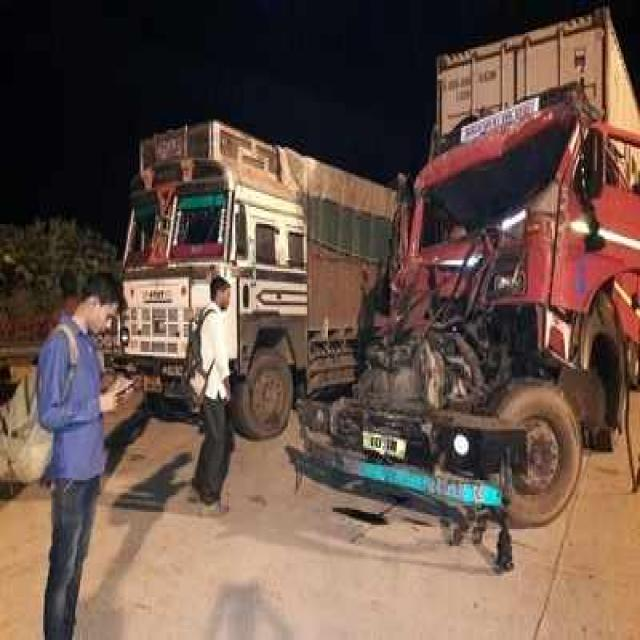accident: (291, 10, 640, 569)
truck: (121, 120, 396, 438)
